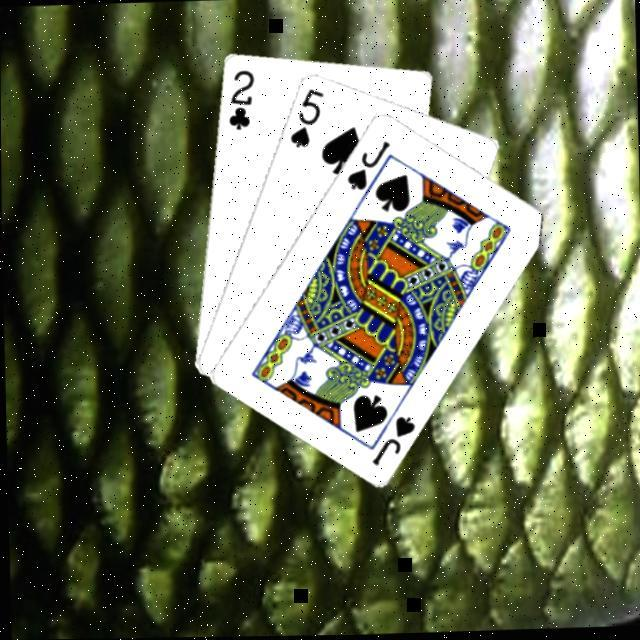2C: (224, 67, 258, 134)
5S: (286, 86, 326, 150)
JS: (367, 413, 418, 471), (343, 138, 394, 194)
